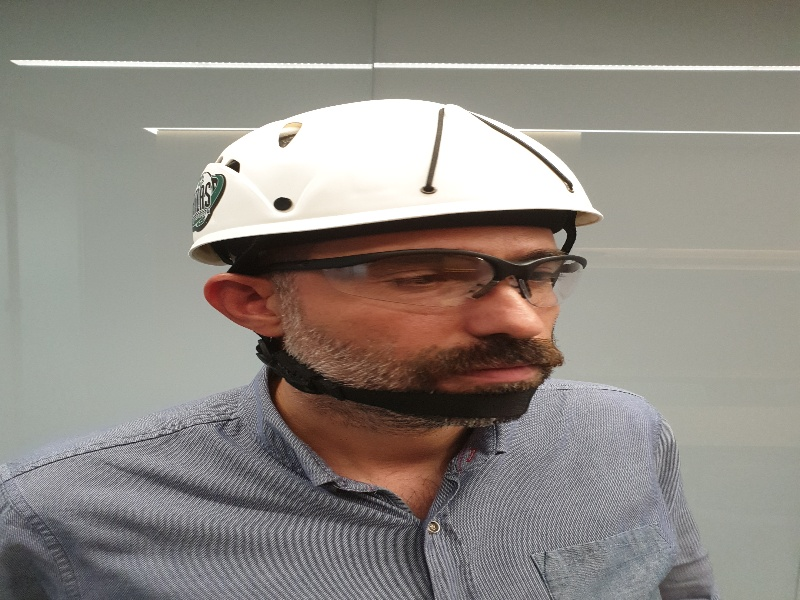Baret: (189, 97, 600, 229)
Gozluk: (244, 247, 589, 316)
